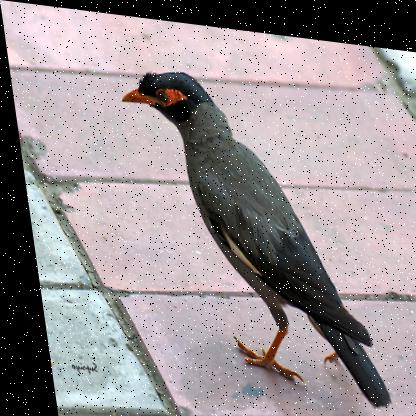Burung: (115, 63, 383, 400)
